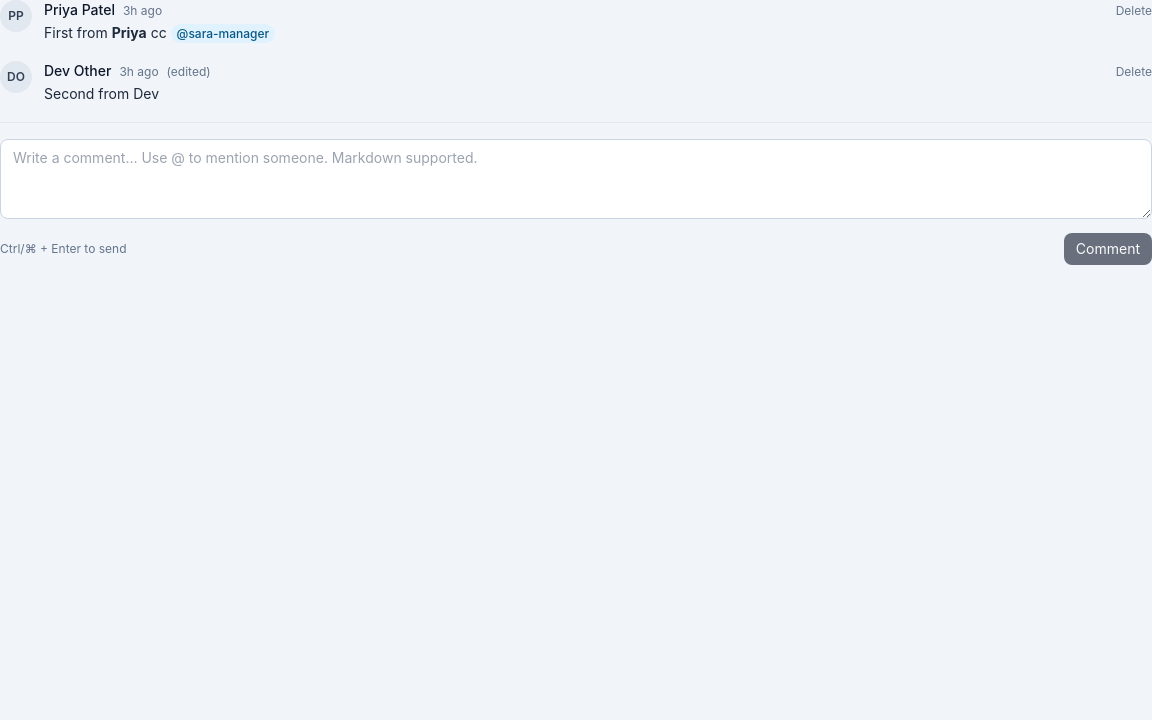
Test: CommentsTab permissions › deletes after confirmation
The width and height of the screenshot is (1152, 720).
What coordinates should you click on to do the following:
click the button "Delete" in the row of "(edited)"
I would click on:
 (1134, 72)
Its box is 1116,64 -> 1151,80.
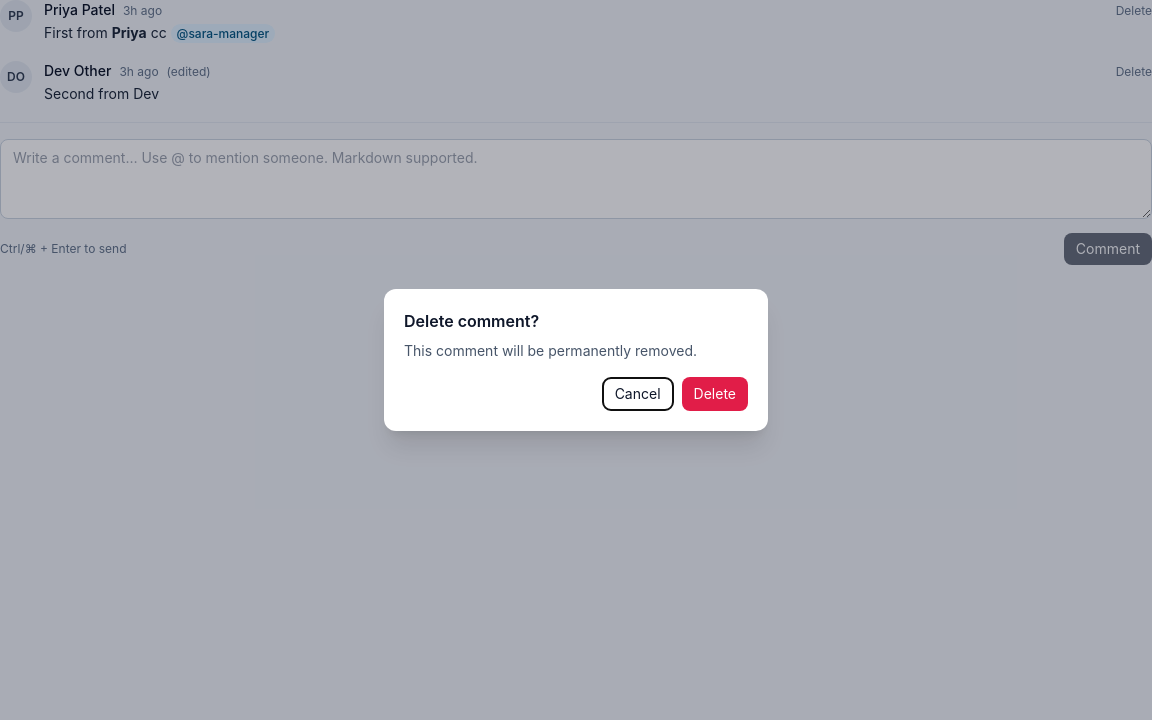
What coordinates should you click on to do the following:
click the button "Delete"
I would click on:
 (715, 394)
Its box is 682,377 -> 748,411.
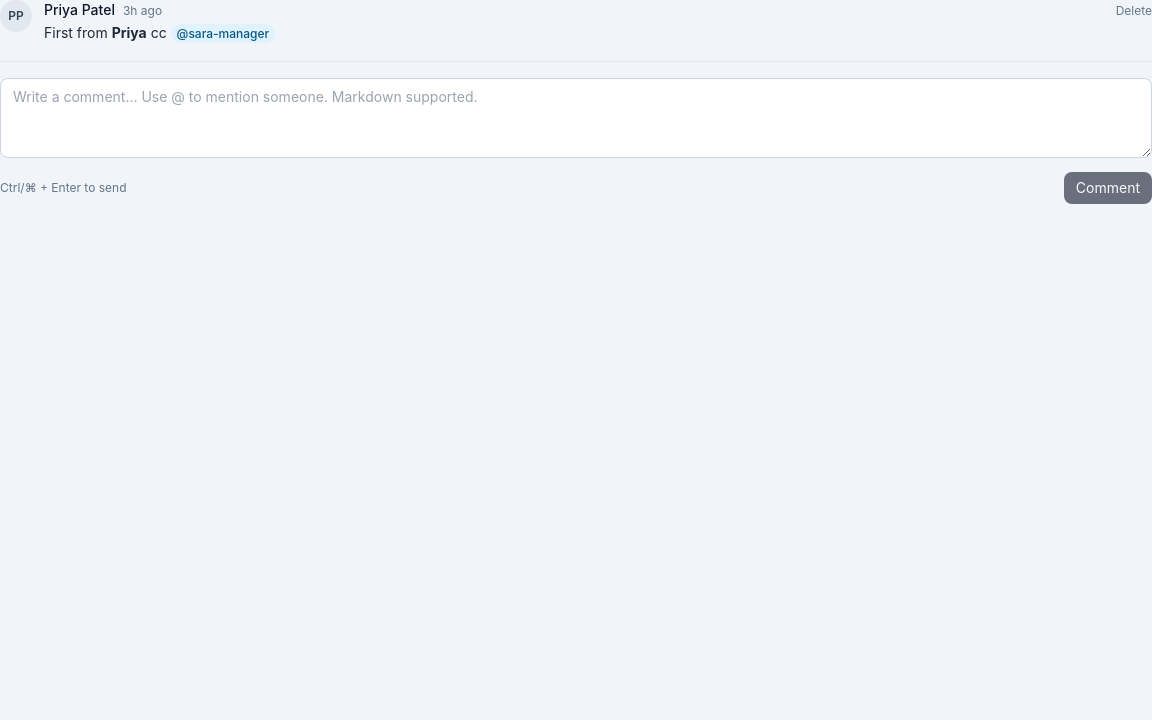
Check: the number of list items with test id "comment" is 1, box 0,0 -> 1151,45
Check: the dialog is gone
